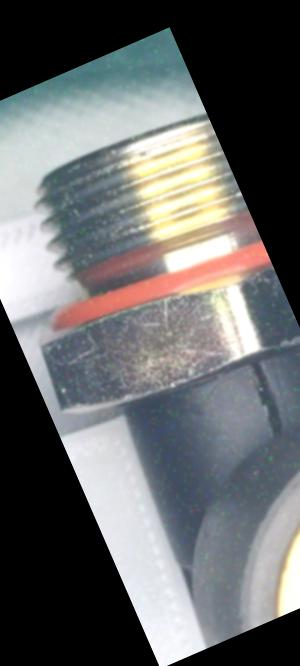craze: (239, 357, 296, 443)
